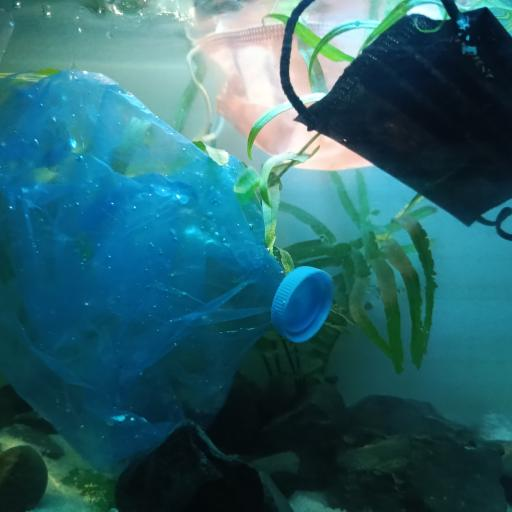bottle_cap: (271, 266, 336, 344)
mask: (280, 0, 512, 241), (184, 22, 376, 172)
plastic_bag: (1, 68, 290, 470)
